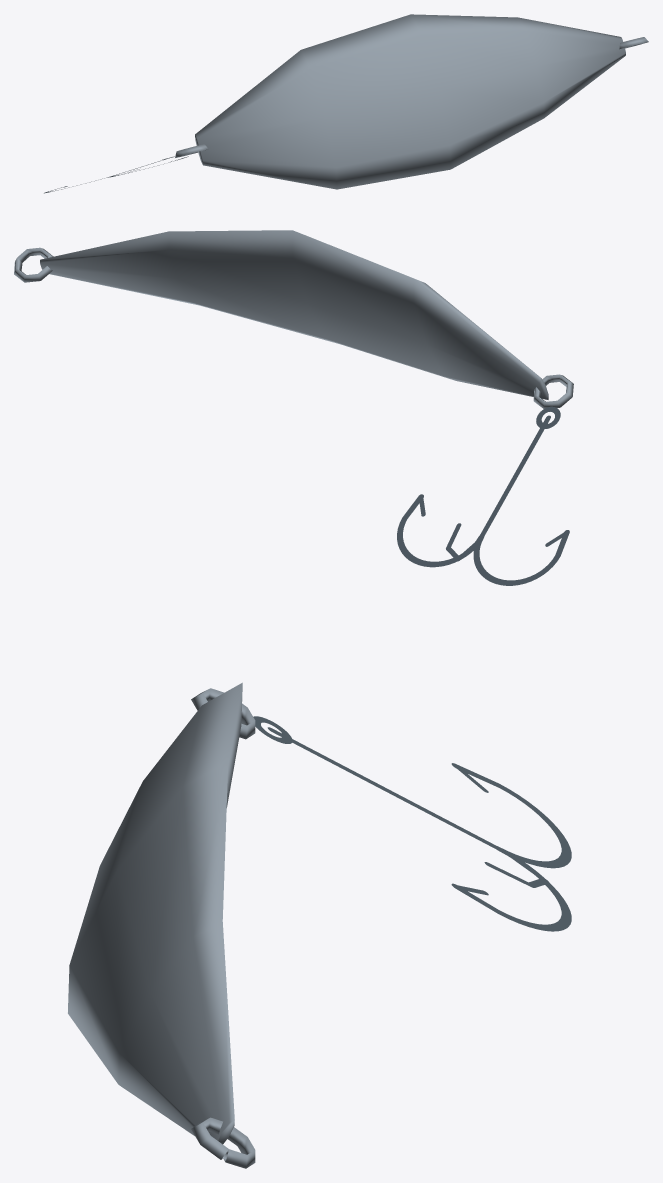
The model's file is spoon.glb.
3 renders of one model, top to bottom at view 1: azimuth 30°, elevation 25°; view 2: azimuth 150°, elevation 25°; view 3: azimuth 270°, elevation 25°, orthographic. The views are drawn at different scales.
Parts seen in each view (by area): view 1: spoon__spoon_body_MESH; view 2: spoon__spoon_body_MESH, spoon__Treble_hook_ALPHA.006, spoon__Attachment_eye_MESH.010, spoon__Attachment_eye_MESH.011; view 3: spoon__spoon_body_MESH, spoon__Treble_hook_ALPHA.006, spoon__Attachment_eye_MESH.010, spoon__Attachment_eye_MESH.011.
Part boxes in pixels (x1,y1,x2,y2): spoon__spoon_body_MESH: [195, 14, 625, 189]; spoon__spoon_body_MESH: [40, 230, 548, 399]; spoon__Treble_hook_ALPHA.006: [397, 406, 569, 585]; spoon__Attachment_eye_MESH.010: [14, 247, 53, 282]; spoon__Attachment_eye_MESH.011: [533, 374, 573, 408]; spoon__spoon_body_MESH: [68, 682, 242, 1144]; spoon__Treble_hook_ALPHA.006: [253, 716, 571, 931]; spoon__Attachment_eye_MESH.010: [191, 1117, 255, 1168]; spoon__Attachment_eye_MESH.011: [191, 688, 255, 739].
Size of the model in its own units: 0.0701 by 0.0223 by 0.0296.
Materials: 2 (1 with a texture image).
